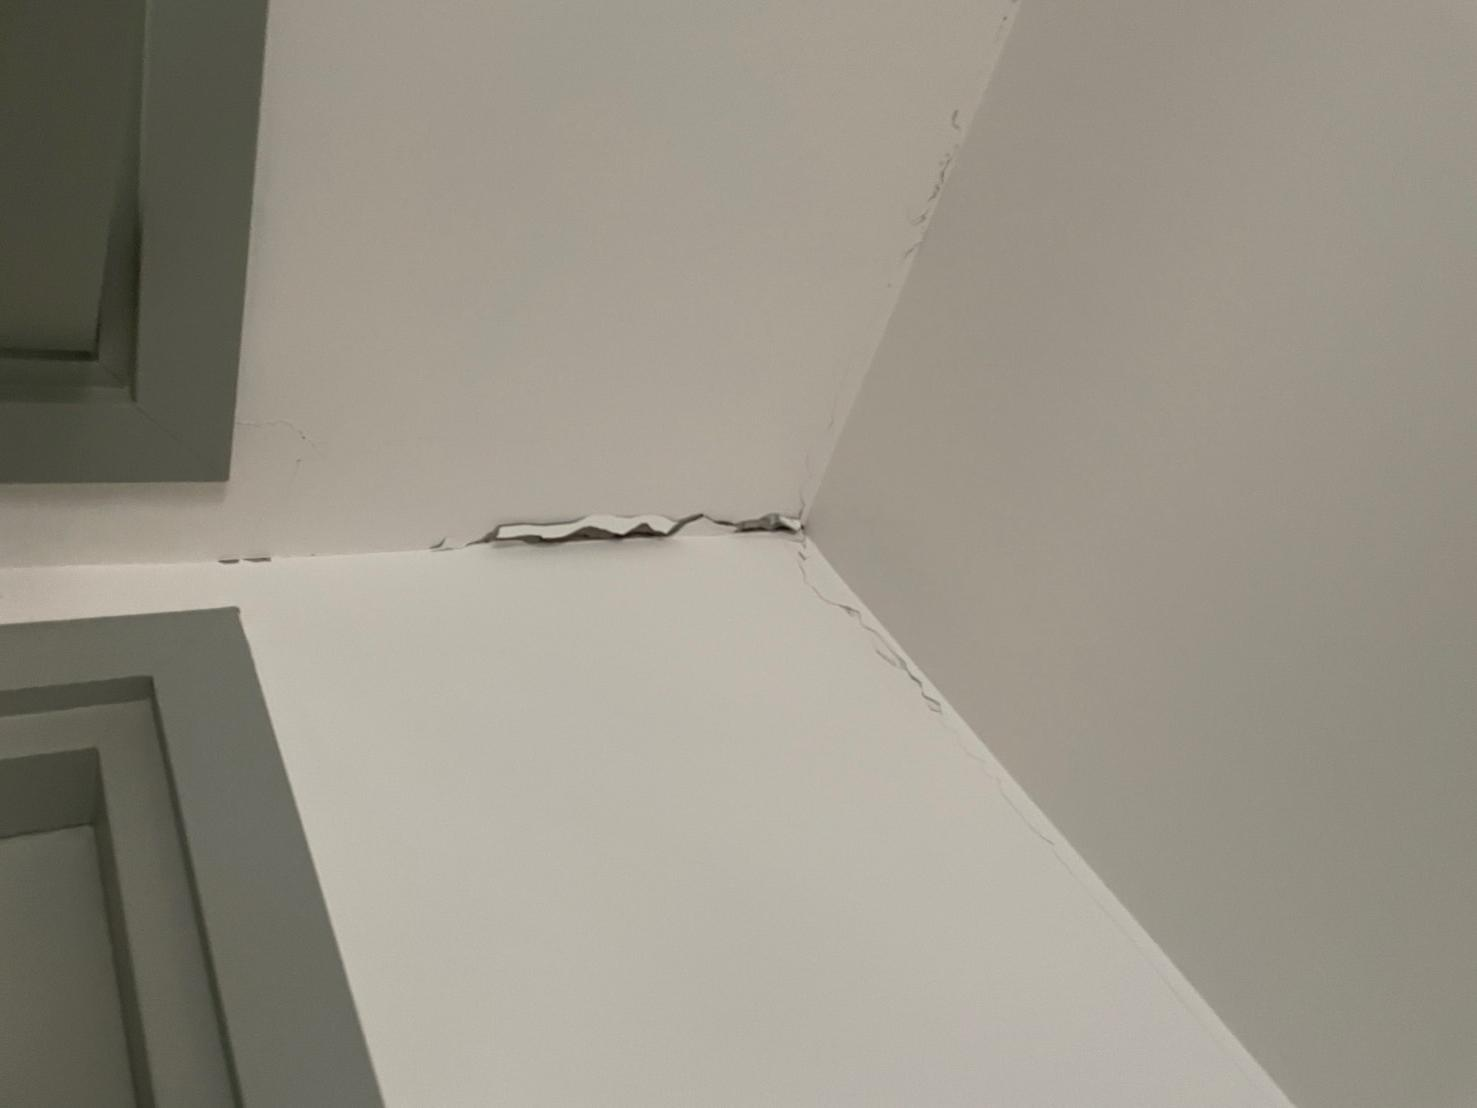Low: (199, 493, 977, 740)
